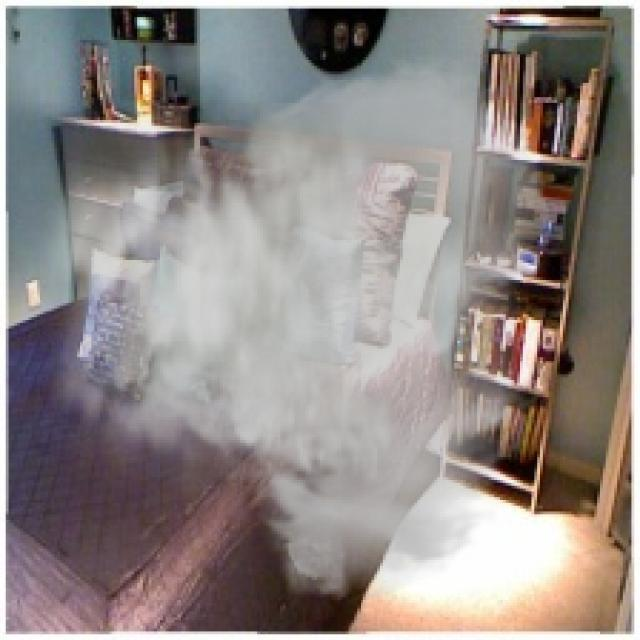Smoke: (17, 49, 554, 606)
